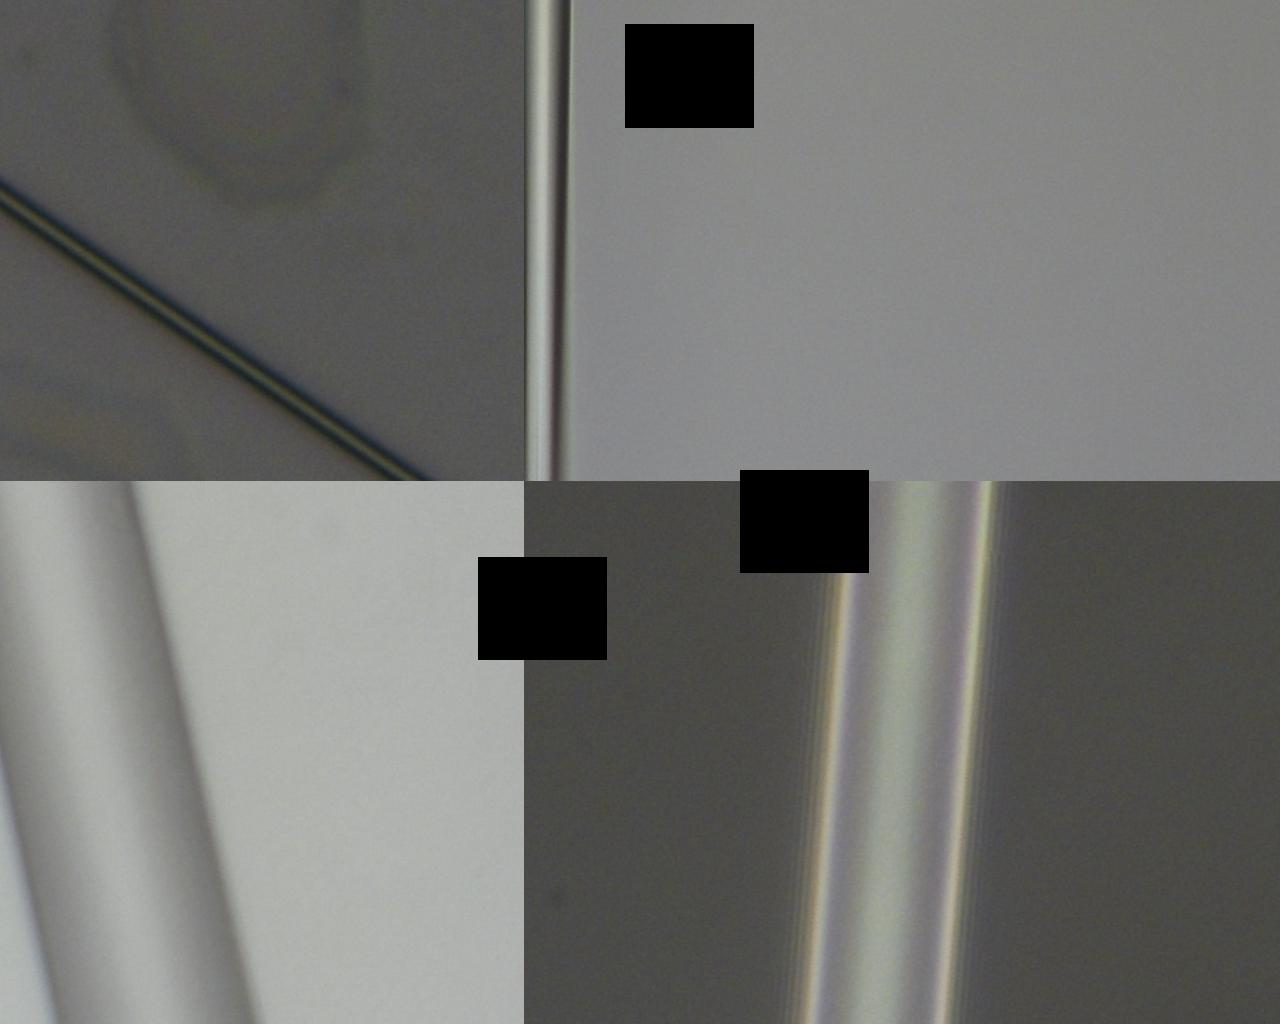fiber: (0, 471, 583, 763), (717, 471, 982, 1024), (0, 16, 665, 93)
